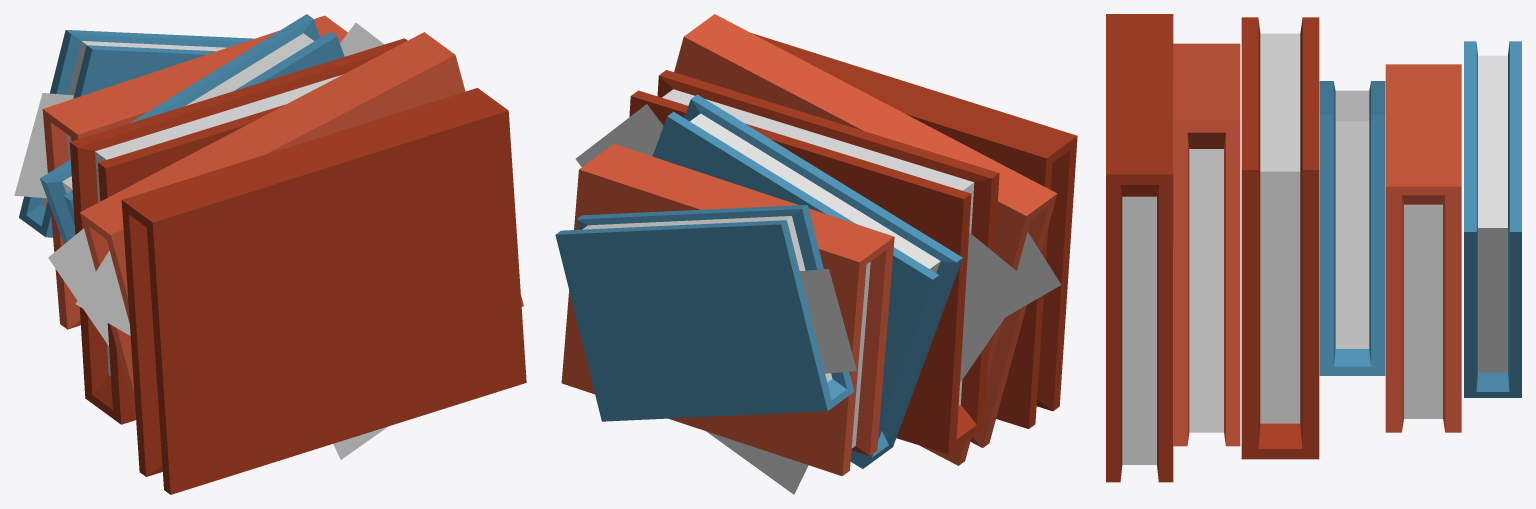
Rendered from Book_Pile_2__alt_.glb.
The picture shows the model from 3 angles, left to right: view 1: azimuth 30°, elevation 25°; view 2: azimuth 150°, elevation 25°; view 3: azimuth 270°, elevation 25°; orthographic projection. The views are drawn at different scales.
Parts seen in each view (by area): view 1: Book Pile 2 (alt); view 2: Book Pile 2 (alt); view 3: Book Pile 2 (alt).
Boxes of the visible parts, x1,y1,x2,y2 form: Book Pile 2 (alt): (14, 14, 526, 494); Book Pile 2 (alt): (555, 14, 1077, 494); Book Pile 2 (alt): (1106, 14, 1521, 482).
Size of the model in its own units: 0.3239 by 0.2799 by 0.2496.
1 material, 1 textured.
